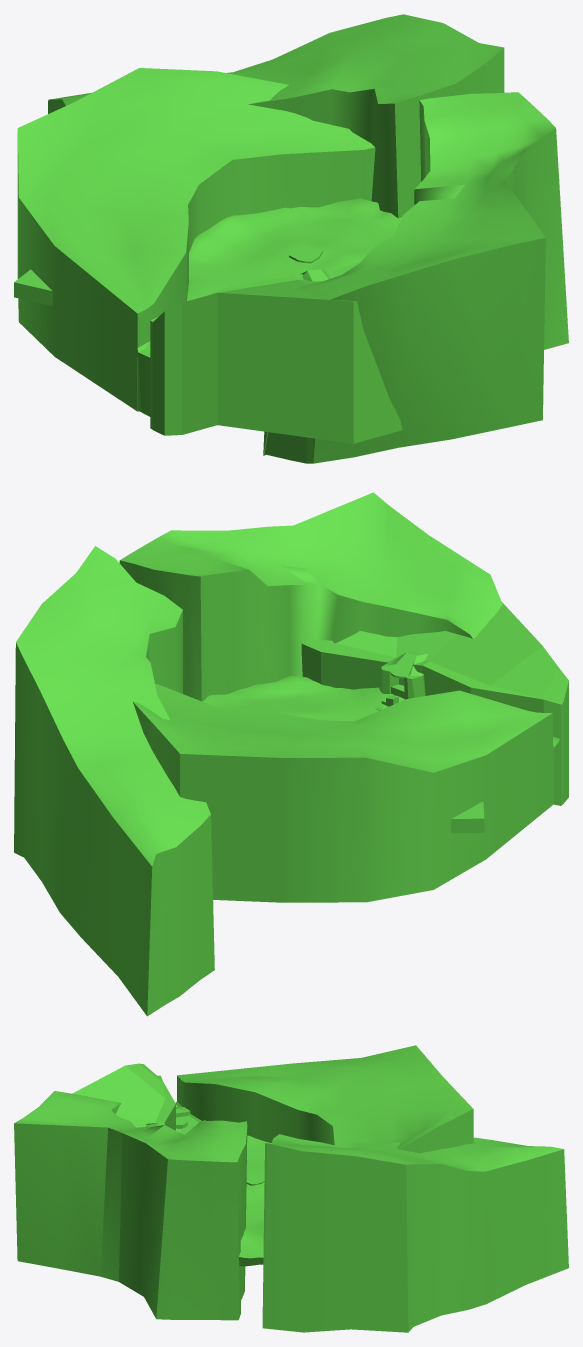
The model's file is Zone1Final 2.FBX.
3 views of the same model, one above another, from view 1: azimuth 30°, elevation 25°; view 2: azimuth 150°, elevation 25°; view 3: azimuth 270°, elevation 25° (orthographic). The views are drawn at different scales.
Parts seen in each view (by area): view 1: Plane001, New_Game_Object__1__1, New_Game_Object_10, New_Game_Object_11, Box001, New_Game_Object_5; view 2: Plane001, New_Game_Object_11, New_Game_Object__1__1, New_Game_Object_10, Box001; view 3: New_Game_Object_11, New_Game_Object__1__1, Plane001, New_Game_Object_10, Box001.
Boxes of the visible parts, bbox=[...] form: Plane001: bbox=[17, 68, 375, 411]; New_Game_Object__1__1: bbox=[263, 92, 568, 463]; New_Game_Object_10: bbox=[150, 261, 402, 443]; New_Game_Object_11: bbox=[48, 14, 504, 218]; Box001: bbox=[14, 198, 401, 305]; New_Game_Object_5: bbox=[137, 342, 150, 416]; Plane001: bbox=[133, 684, 552, 902]; New_Game_Object_11: bbox=[14, 546, 214, 1016]; New_Game_Object__1__1: bbox=[119, 492, 502, 701]; New_Game_Object_10: bbox=[301, 602, 568, 805]; Box001: bbox=[202, 675, 484, 833]; New_Game_Object_11: bbox=[262, 1134, 568, 1332]; New_Game_Object__1__1: bbox=[14, 1091, 247, 1320]; Plane001: bbox=[177, 1045, 473, 1153]; New_Game_Object_10: bbox=[72, 1063, 175, 1130]; Box001: bbox=[178, 1120, 271, 1266].
Bounding box in the file's own units: 29994 × 18570 × 42475.
